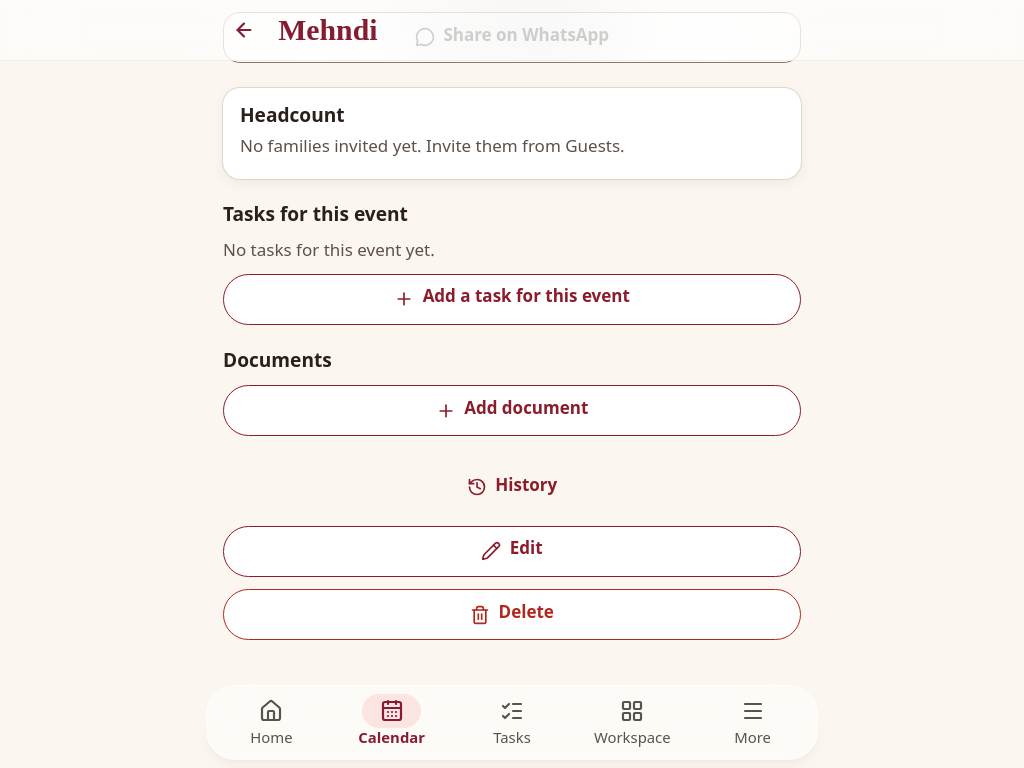
Test: Event page › AC-EVT-06 / E5: delete shows the counts first, then Undo
(page scrolled)
Step 1. Click the button "Delete" → (512, 615), box [223, 589, 801, 640]
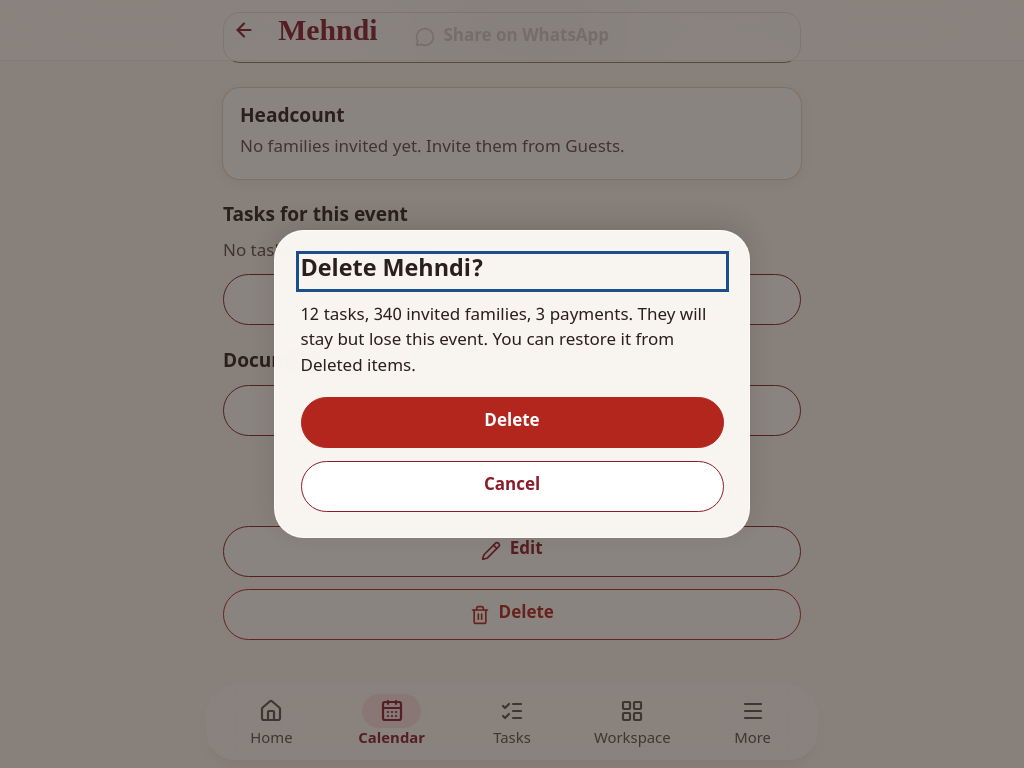
Check: the text "12 tasks, 340 invited families, 3 payments. They will stay but lose this event. You can restore it from Deleted items." is shown, box [300, 305, 706, 378]
Step 2. Click the button "Delete" → (512, 423), box [300, 397, 724, 448]
(page scrolled)
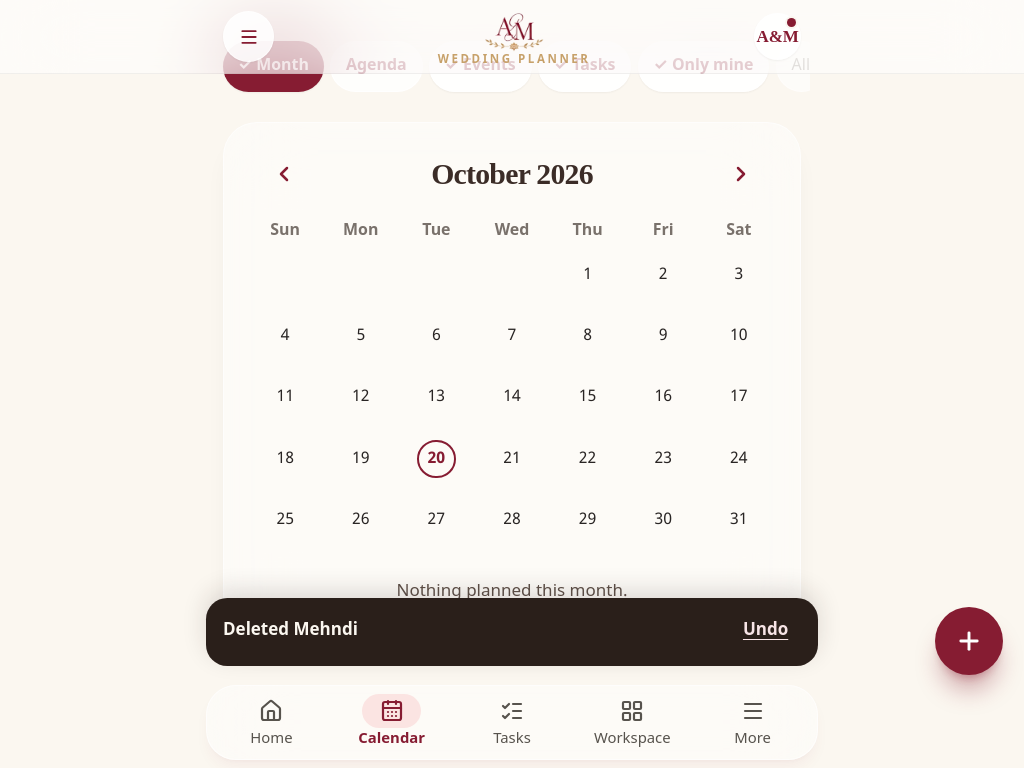
Check: the text "Deleted Mehndi" is shown, box [223, 620, 358, 642]
